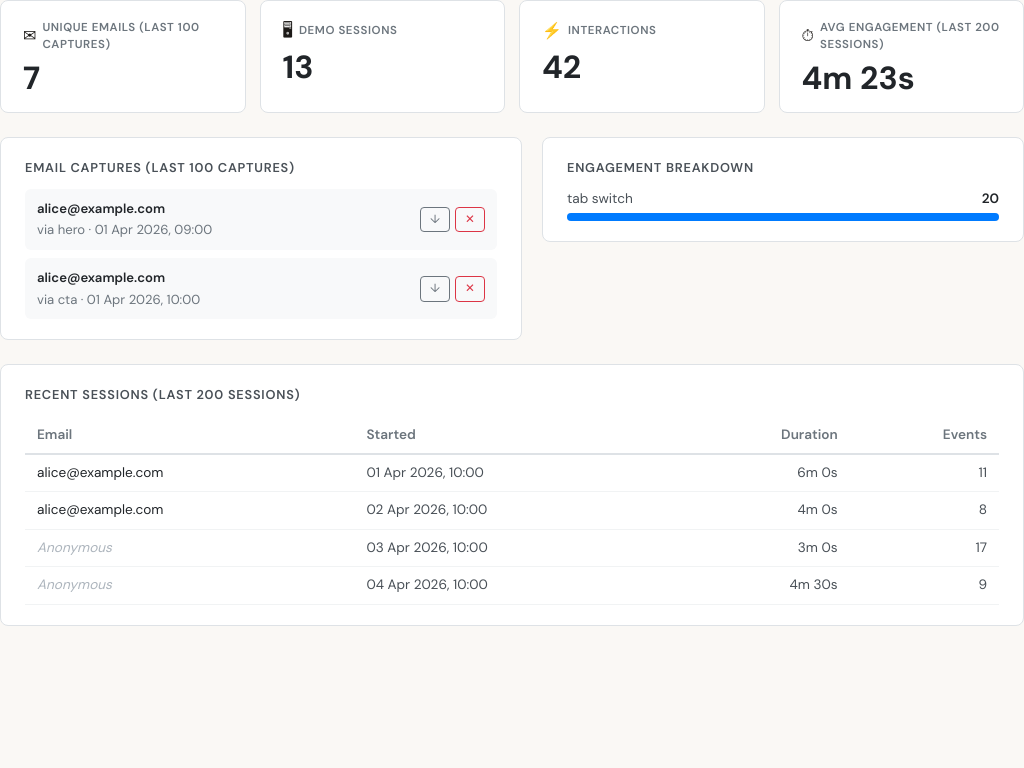
Test case: DemoAnalytics › decrements stat cards after successful GDPR delete
# alice has 2 email capture rows — click delete on first one
What coordinates should you click on to do the following:
click the button named "delete"
I would click on:
 (470, 219)
Its box is [455, 206, 485, 232].
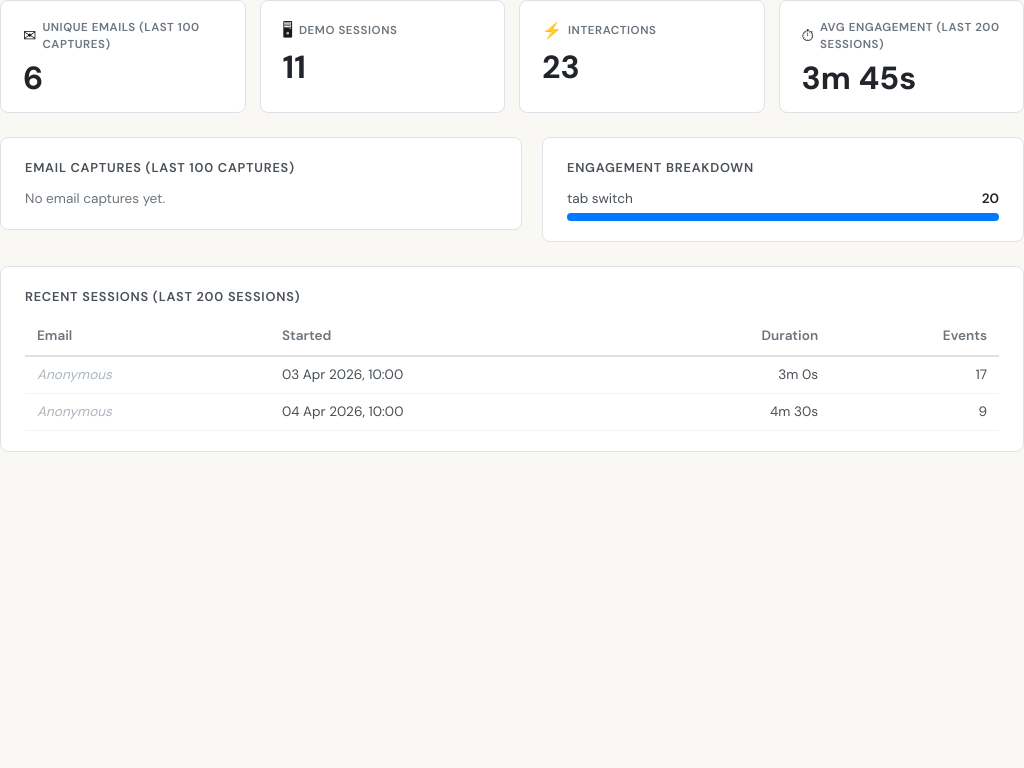
Check: the text "6" is shown, box [23, 56, 43, 98]
Check: the text "11" is shown, box [282, 46, 306, 88]
Check: the text "23" is shown, box [542, 46, 580, 88]
